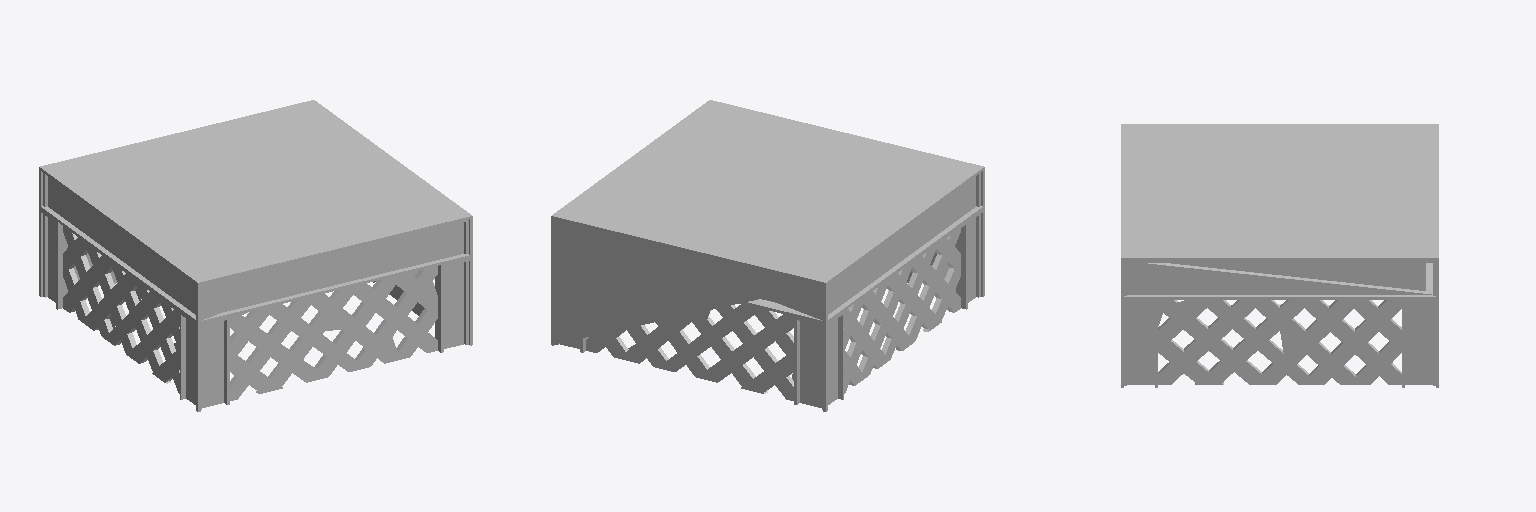
Rendered from Half_Crate__188620_.obj.
The picture shows the model from 3 angles: view 1: azimuth 30°, elevation 25°; view 2: azimuth 150°, elevation 25°; view 3: azimuth 270°, elevation 25°; orthographic projection.
Visible parts, largest first — view 1: Half_Crate__188620__temp_Half_Crate__188620_.002; view 2: Half_Crate__188620__temp_Half_Crate__188620_.002; view 3: Half_Crate__188620__temp_Half_Crate__188620_.002.
Boxes of the visible parts, <box> form: Half_Crate__188620__temp_Half_Crate__188620_.002: <box>39,100,472,411</box>; Half_Crate__188620__temp_Half_Crate__188620_.002: <box>551,100,984,411</box>; Half_Crate__188620__temp_Half_Crate__188620_.002: <box>1121,124,1438,387</box>.
Size of the model in its own units: 0.3334 by 0.15 by 0.3334.